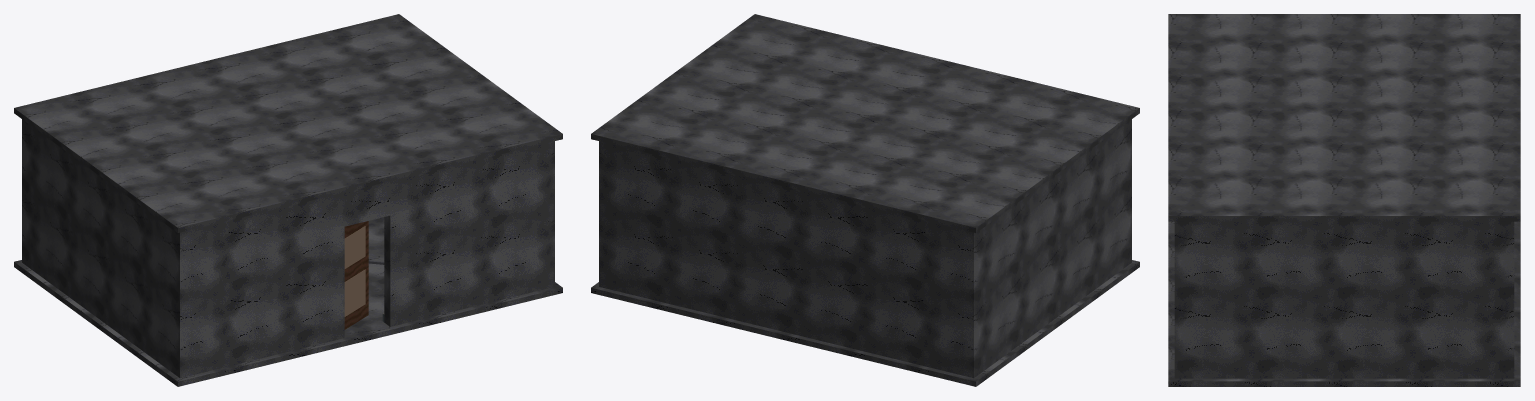
The model's file is porao.glb.
3 renders of one model, left to right at view 1: azimuth 30°, elevation 25°; view 2: azimuth 150°, elevation 25°; view 3: azimuth 270°, elevation 25°, orthographic. The views are drawn at different scales.
Parts seen in each view (by area): view 1: concrete-col, flat.025, wood_dark; view 2: concrete-col; view 3: concrete-col.
Boxes of the visible parts, x1,y1,x2,y2 form: concrete-col: (14, 14, 562, 386); flat.025: (344, 226, 365, 316); wood_dark: (344, 221, 368, 329); concrete-col: (591, 14, 1139, 386); concrete-col: (1168, 14, 1520, 386).
Size of the model in its own units: 7.6 by 3 by 5.6.
42 materials, 15 textured.
